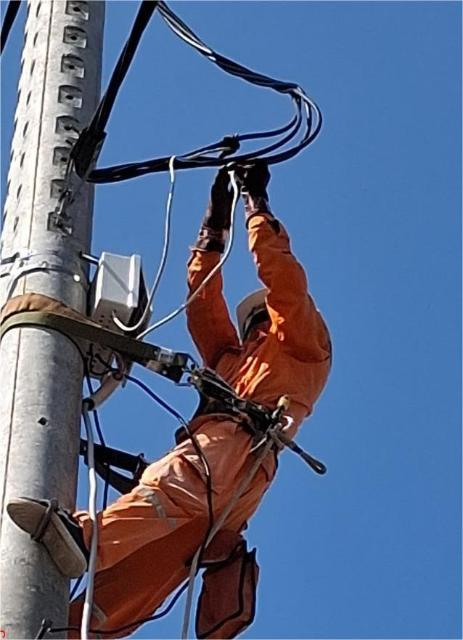gloves: (192, 155, 241, 260), (238, 150, 275, 227)
harness: (190, 367, 300, 459)
helmet: (216, 277, 290, 339)
shoes: (9, 486, 95, 586)
